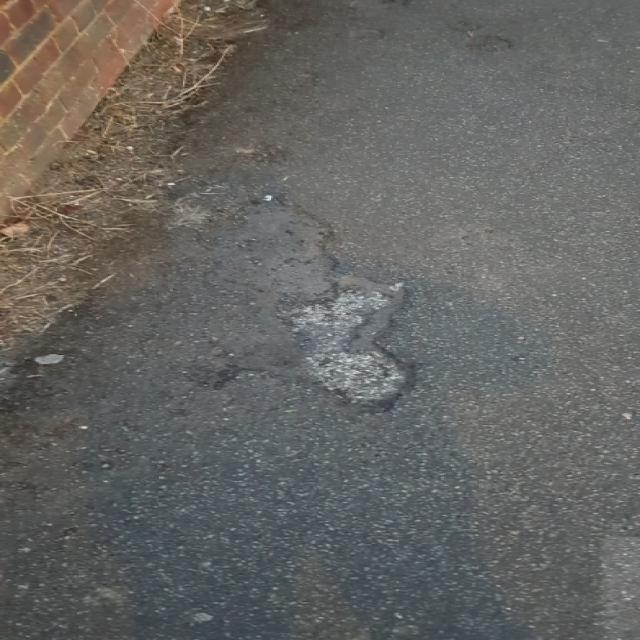Pothole: (270, 274, 427, 412)
